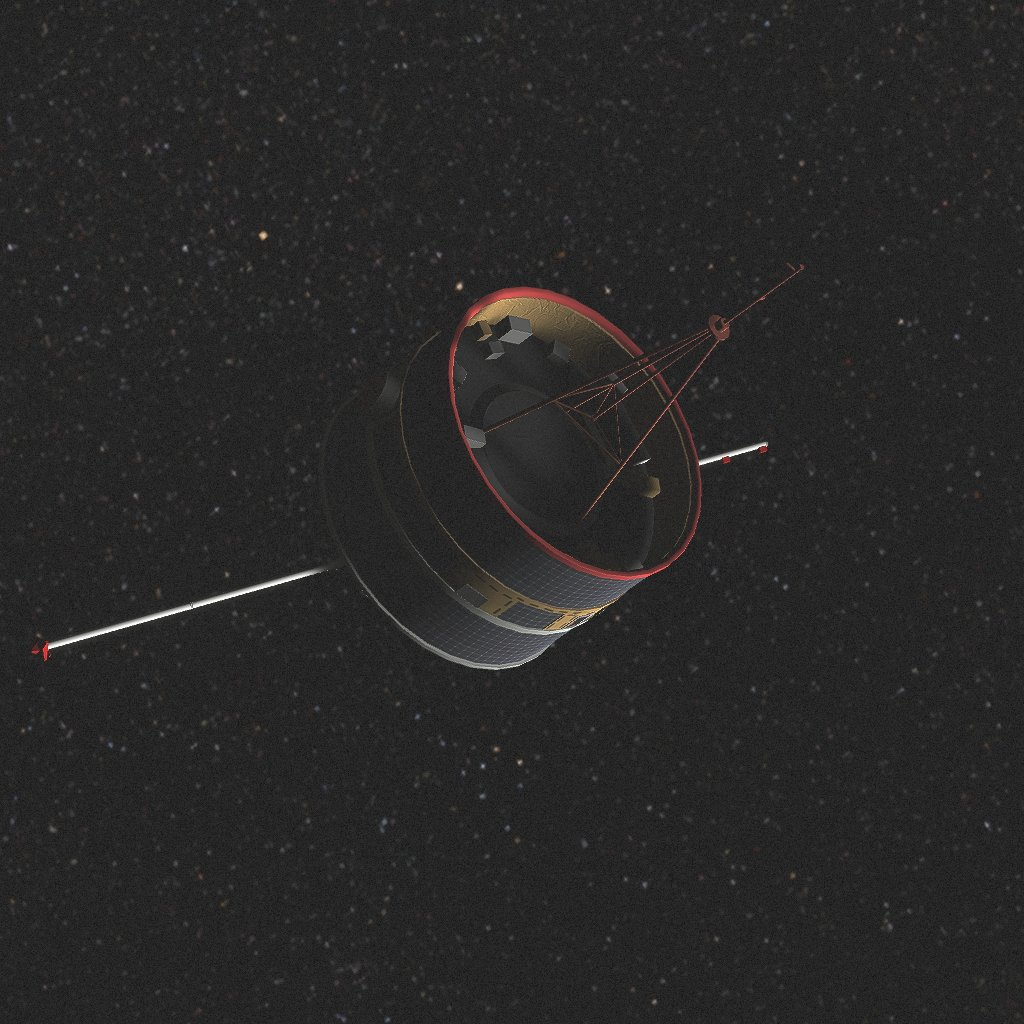double_star: (30, 262, 804, 670)
